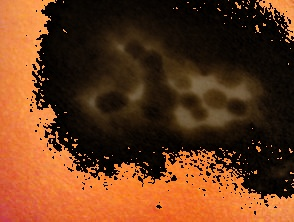vitiligo: (53, 0, 284, 206)
